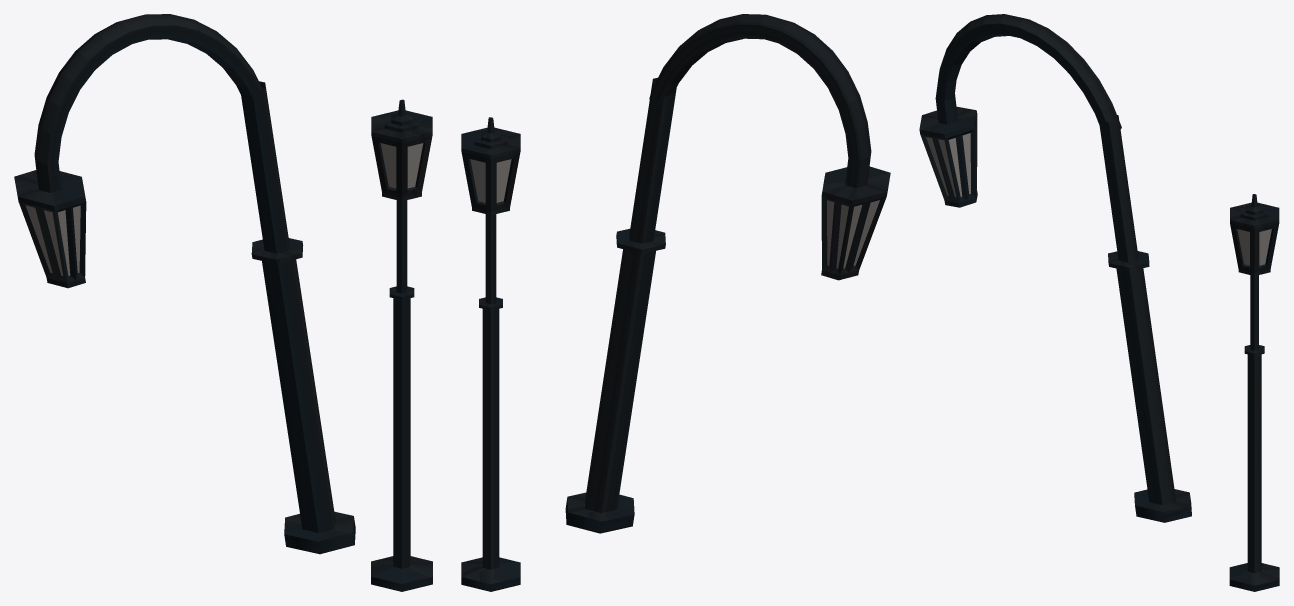
File: Lamps.fbx
3 views of the same model, side by side, from view 1: azimuth 30°, elevation 25°; view 2: azimuth 150°, elevation 25°; view 3: azimuth 330°, elevation 25° (orthographic). The views are drawn at different scales.
Parts seen in each view (by area): view 1: Object001, Cylinder001; view 2: Object001, Cylinder001; view 3: Object001, Cylinder001.
Boxes of the visible parts, x1,y1,x2,y2 form: Object001: (14,14,355,554); Cylinder001: (371,99,432,591); Object001: (565,14,890,533); Cylinder001: (461,117,520,591); Object001: (919,14,1191,522); Cylinder001: (1229,194,1279,591).
Bounding box in the file's own units: 147 × 209 × 28.97.
2 materials, 2 textured.
